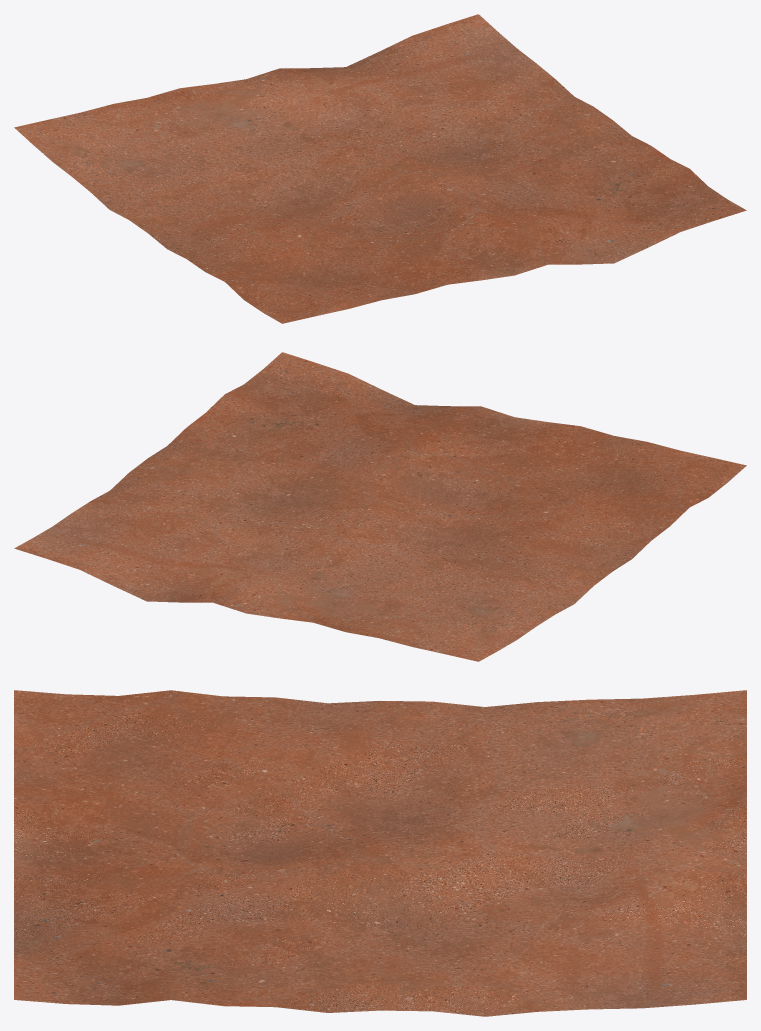
The model's file is Ground_flat_02_M02_LOD1.fbx.
3 views of the same model, one above another, from view 1: azimuth 30°, elevation 25°; view 2: azimuth 150°, elevation 25°; view 3: azimuth 270°, elevation 25° (orthographic). The views are drawn at different scales.
Parts seen in each view (by area): view 1: Ground_flat_02_M02_LOD1; view 2: Ground_flat_02_M02_LOD1; view 3: Ground_flat_02_M02_LOD1.
Part boxes in pixels (x1,y1,x2,y2): Ground_flat_02_M02_LOD1: (14, 14, 746, 323); Ground_flat_02_M02_LOD1: (14, 352, 746, 661); Ground_flat_02_M02_LOD1: (14, 690, 746, 1016).
Bounding box in the file's own units: 2000 × 85.88 × 2000.
